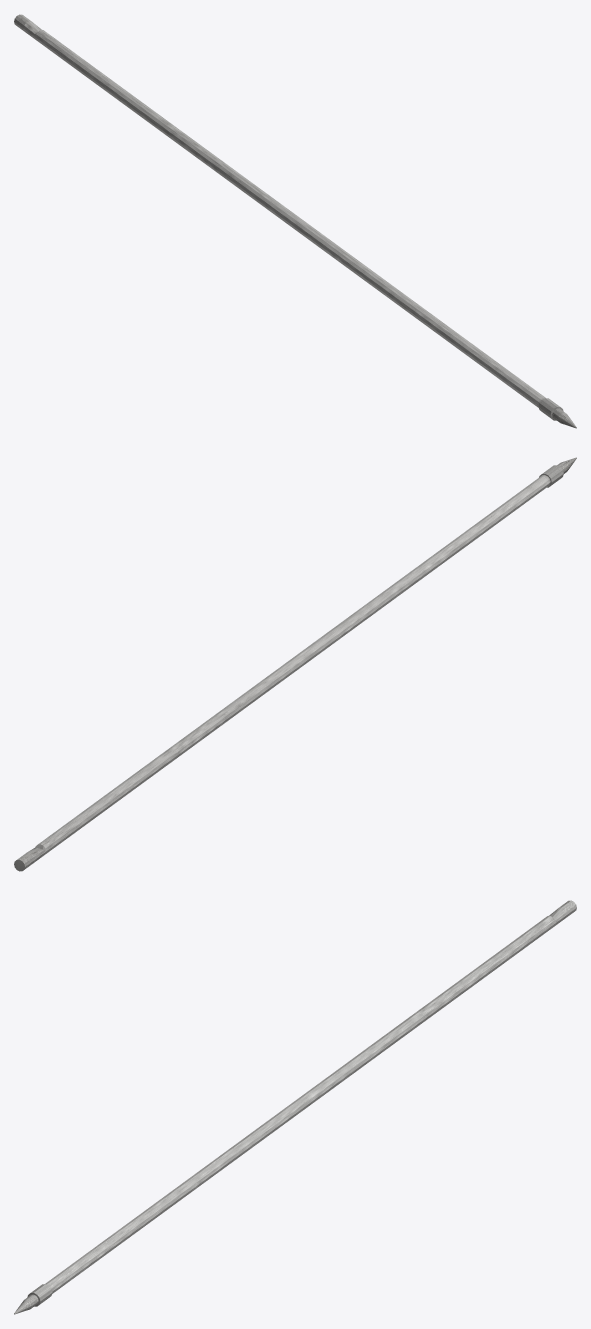
The model's file is spear.fbx.
3 renders of one model, top to bottom at view 1: azimuth 30°, elevation 25°; view 2: azimuth 150°, elevation 25°; view 3: azimuth 330°, elevation 25°, orthographic.
Parts seen in each view (by area): view 1: Cylinder.001; view 2: Cylinder.001; view 3: Cylinder.001.
Part boxes in pixels (<box>): Cylinder.001: <box>14,14,576,428</box>; Cylinder.001: <box>14,457,576,871</box>; Cylinder.001: <box>14,900,576,1314</box>.
Bounding box in the file's own units: 3.52 × 3.52 × 256.
1 material, 1 textured.
